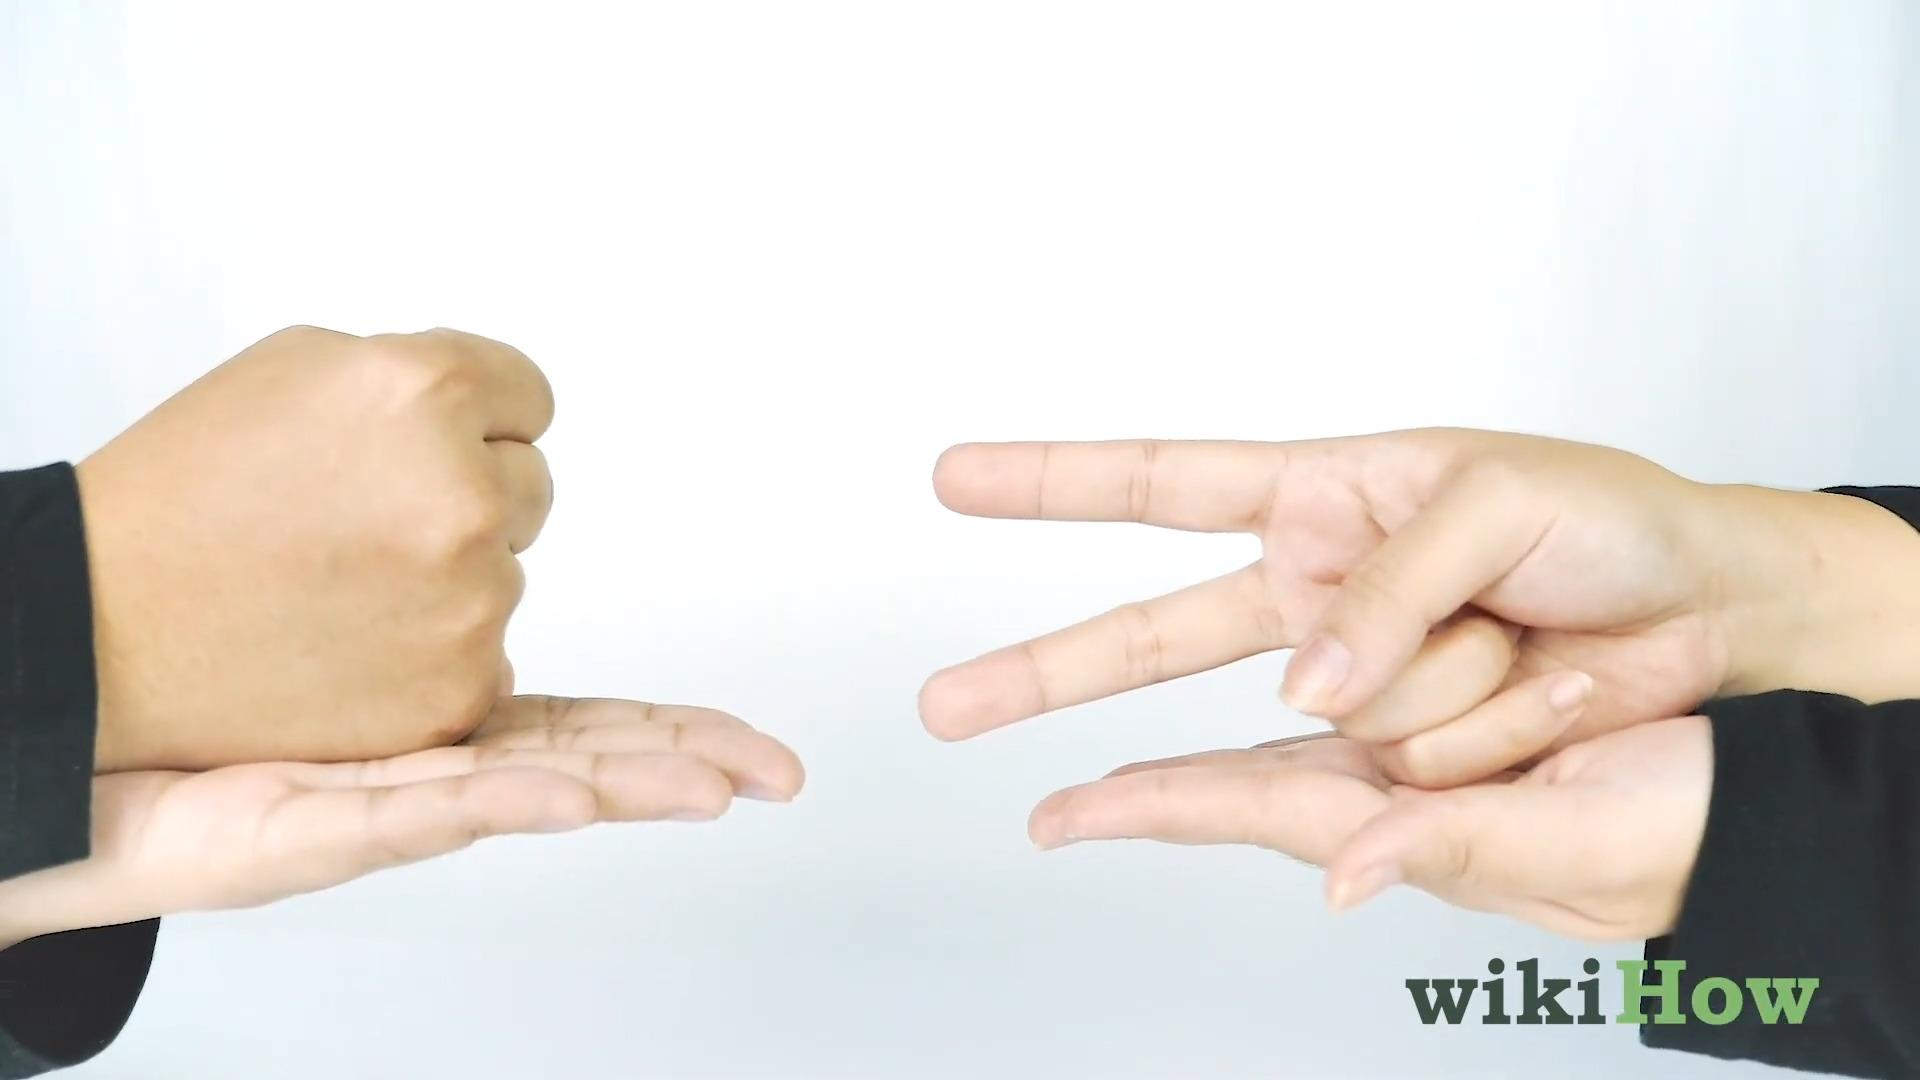Rock: (78, 314, 556, 758)
Scissors: (920, 353, 1720, 819)
